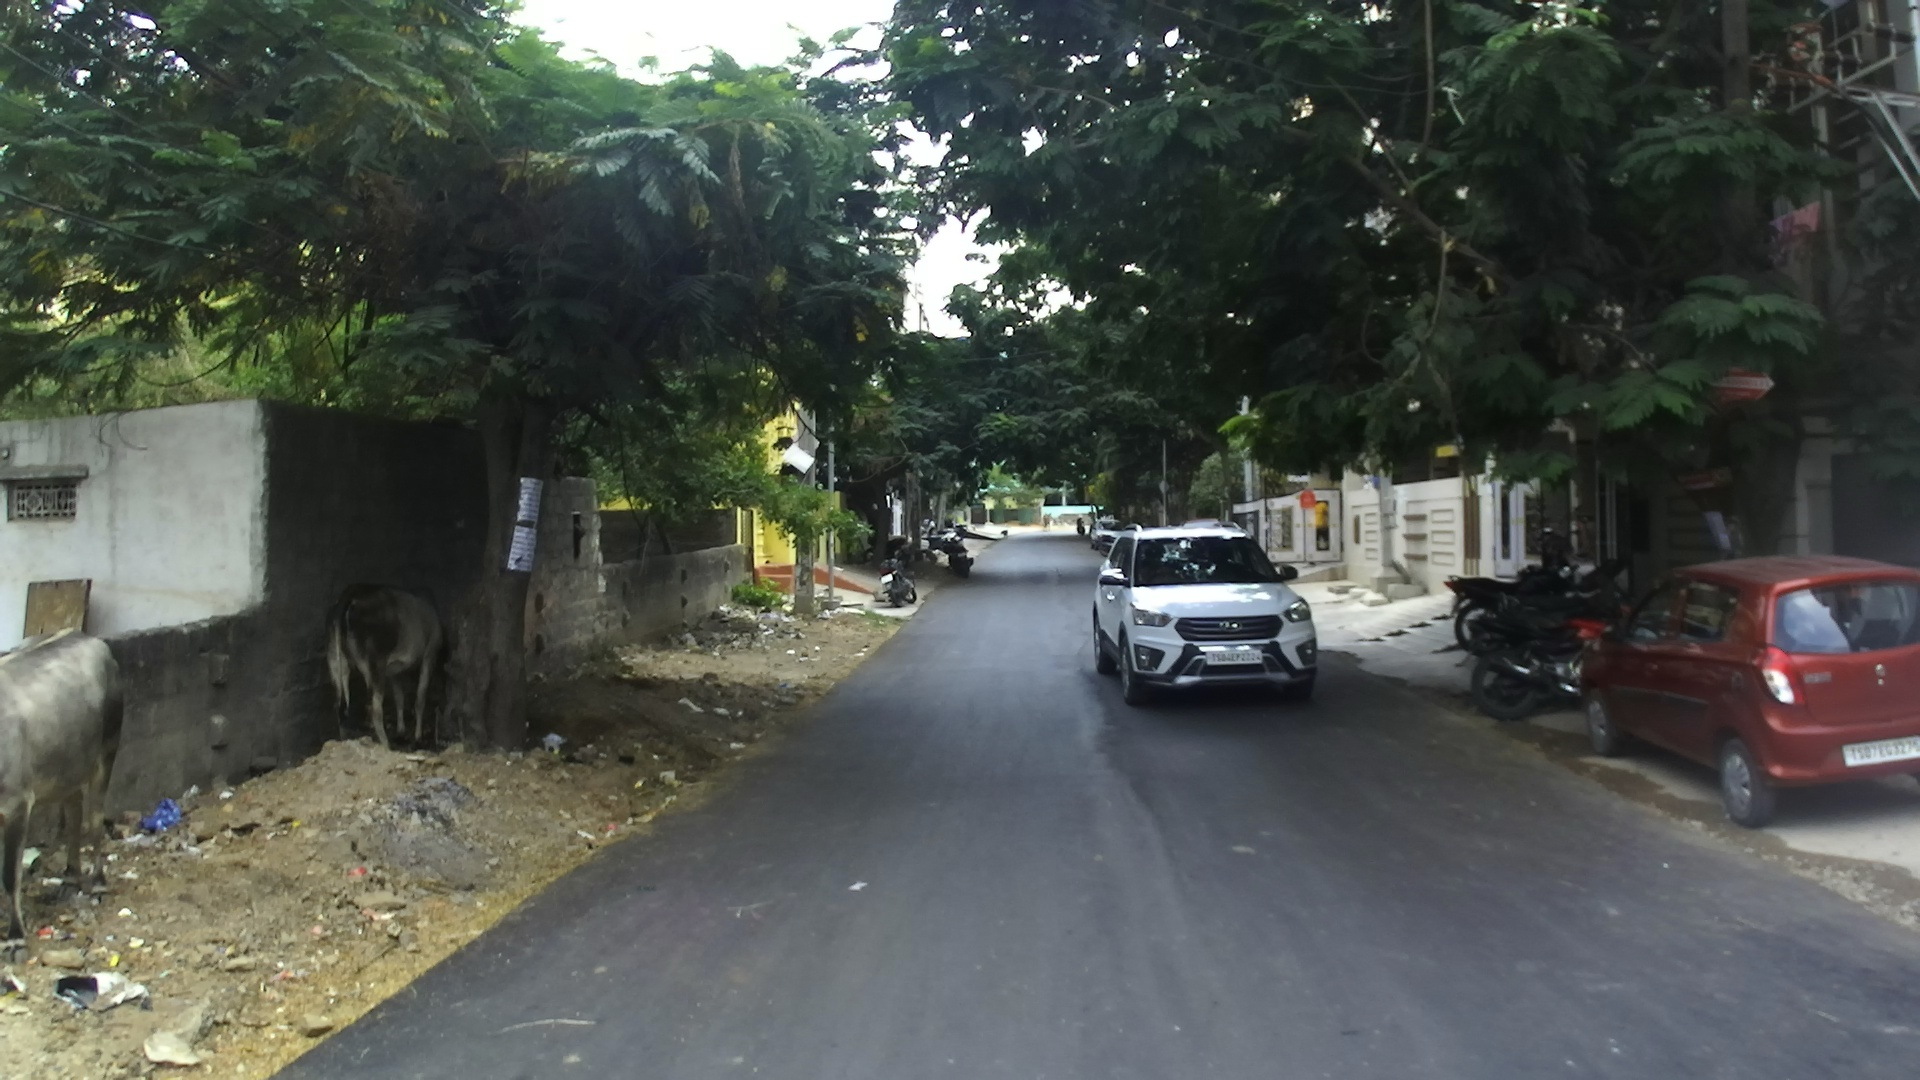vehicle: (1573, 554, 1919, 829), (1091, 526, 1317, 704), (1451, 553, 1633, 721), (930, 529, 973, 574), (870, 574, 919, 611)
